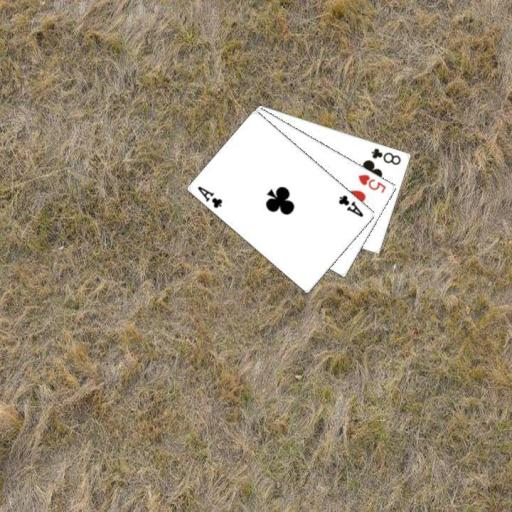5H: (355, 171, 387, 195)
8C: (369, 145, 403, 166)
AC: (336, 192, 365, 219), (195, 183, 224, 210)
